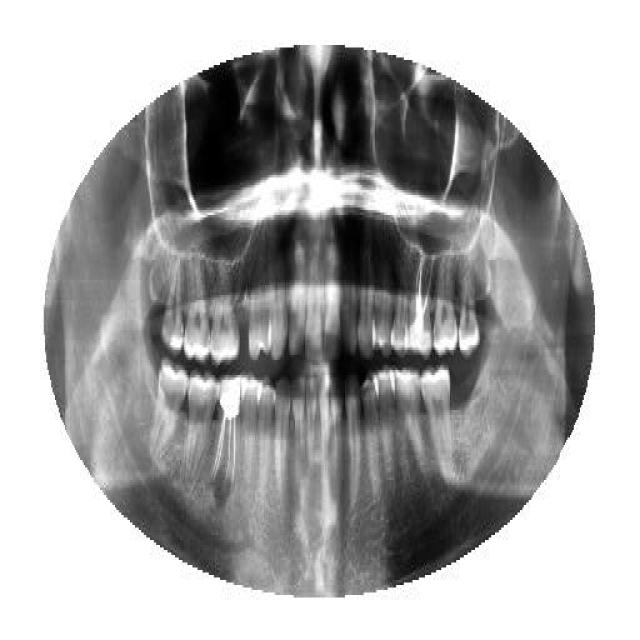Implant: (212, 372, 242, 488), (404, 252, 435, 358)
